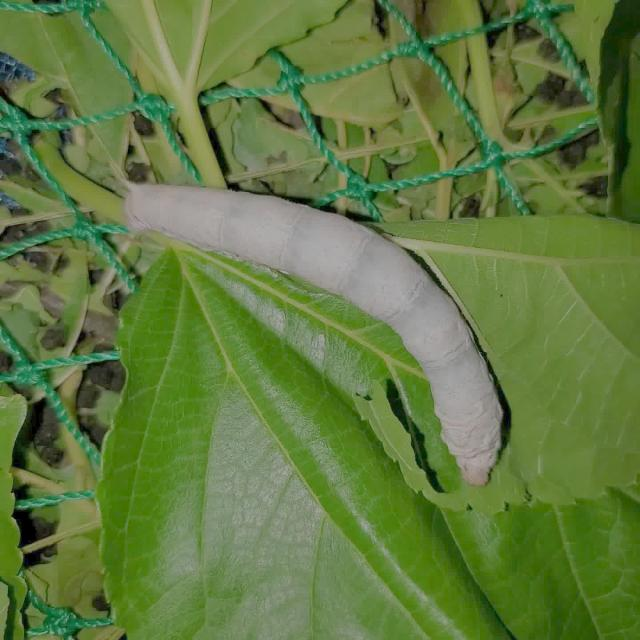Healthy: (119, 159, 510, 500)
